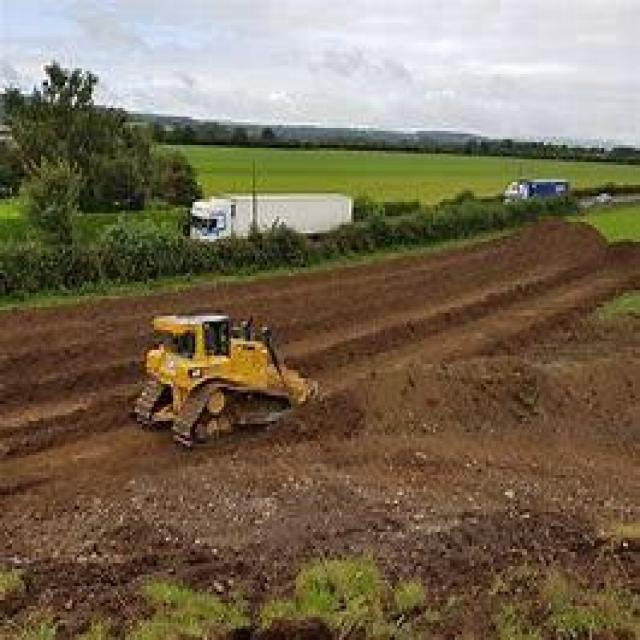Bulldozer: (125, 299, 332, 458)
